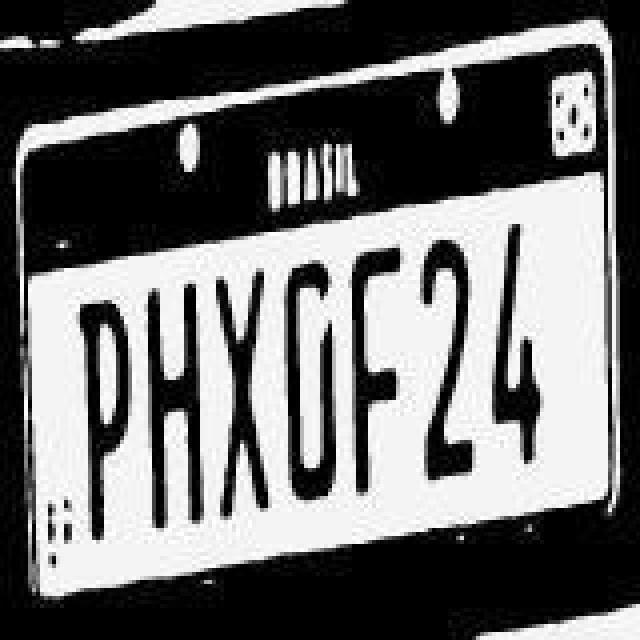2: (408, 232, 480, 488)
4: (482, 218, 542, 470)
D: (278, 258, 346, 510)
F: (348, 246, 404, 506)
H: (140, 282, 212, 534)
P: (76, 296, 132, 544)
X: (210, 264, 270, 520)
